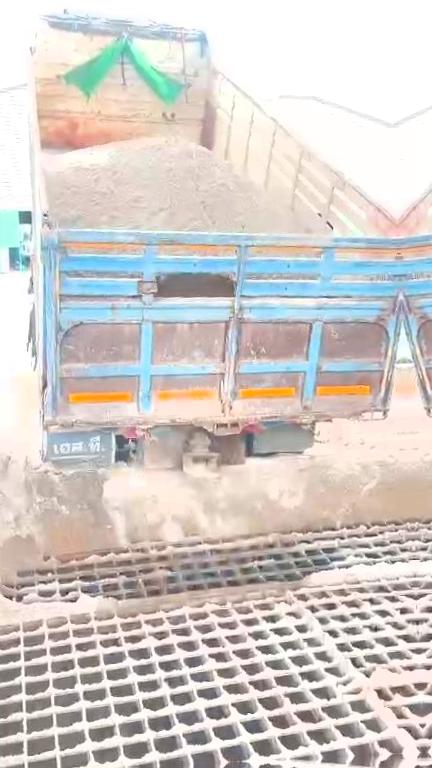sand: (0, 395, 412, 632), (42, 140, 311, 234), (305, 555, 415, 590), (365, 655, 420, 689), (45, 595, 99, 617)
